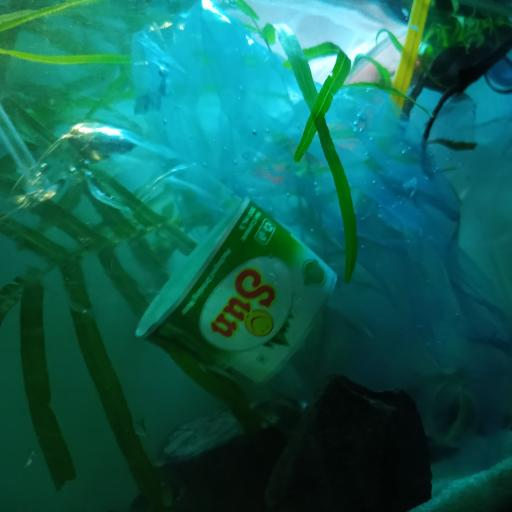mask: (403, 24, 512, 153), (305, 25, 425, 91)
plastic_bag: (130, 0, 512, 433)
plastic_bottle: (0, 121, 476, 447)
plastic_straw: (389, 0, 433, 108)
